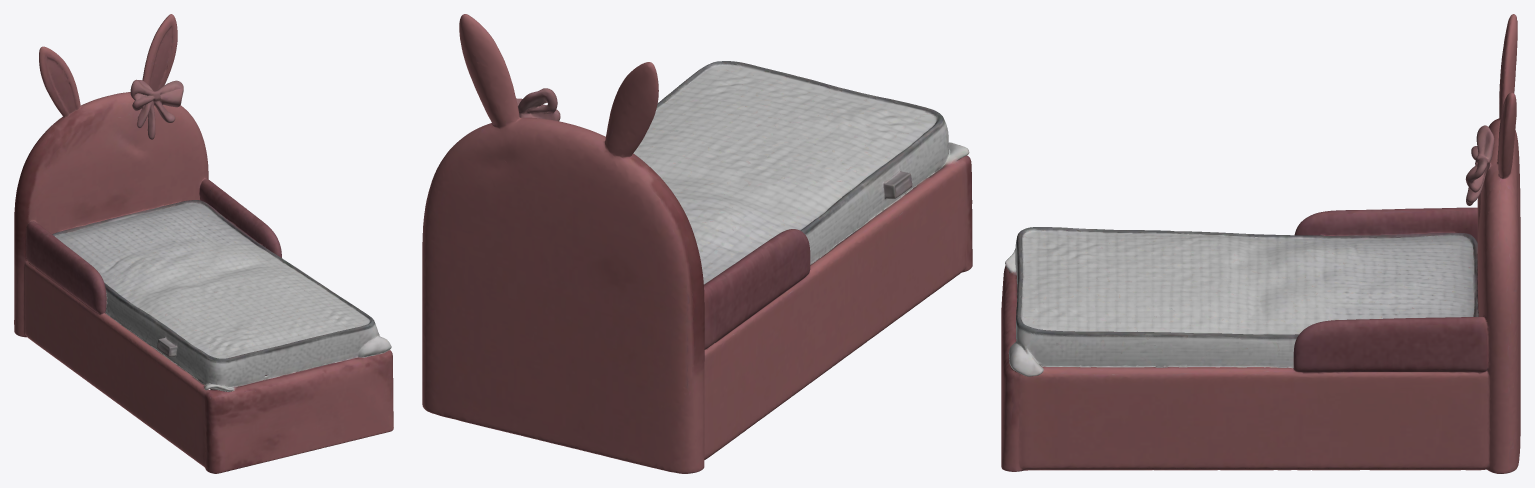
The model's file is Kids Pink Velvet Bunny Bed [VcJbDw].glb.
3 views of the same model, side by side, from view 1: azimuth 30°, elevation 25°; view 2: azimuth 150°, elevation 25°; view 3: azimuth 270°, elevation 25° (orthographic). The views are drawn at different scales.
Parts seen in each view (by area): view 1: world; view 2: world; view 3: world.
Part boxes in pixels (left/top/right/bottom): world: left=14, top=14, right=393, bottom=473; world: left=422, top=14, right=972, bottom=473; world: left=1001, top=14, right=1520, bottom=473.
Bounding box in the file's own units: 0.5559 × 0.7708 × 1.
Materials: 1 (1 with a texture image).
